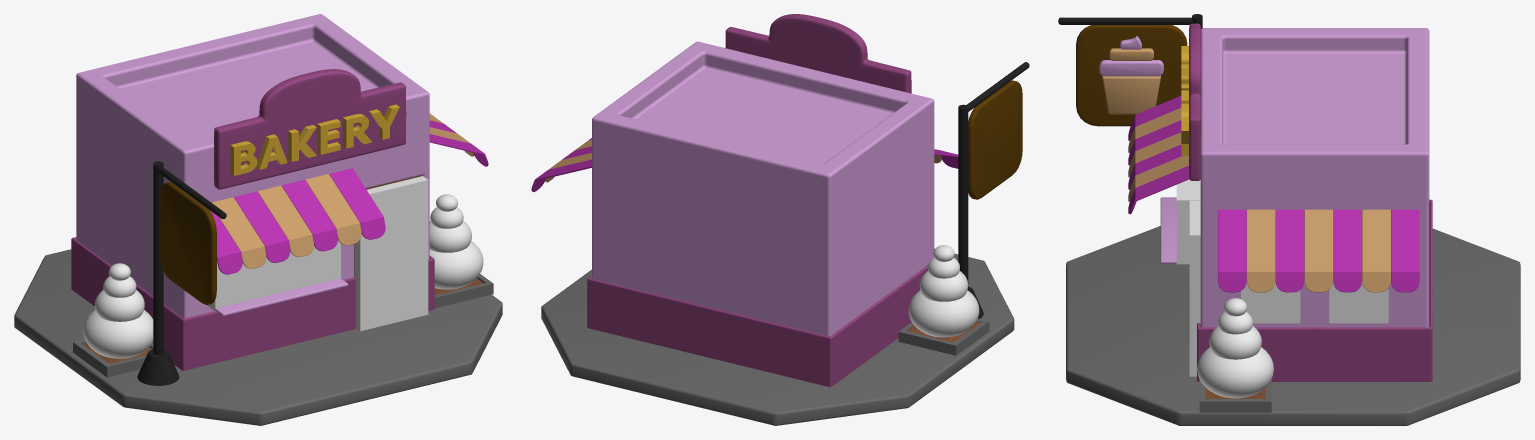
The model's file is bakery.fbx.
3 renders of one model, left to right at view 1: azimuth 30°, elevation 25°; view 2: azimuth 150°, elevation 25°; view 3: azimuth 270°, elevation 25°, orthographic. The views are drawn at different scales.
Parts seen in each view (by area): view 1: Cube.066, Cube.207, Plane.017, Cube.067, Cube.077, Cube.068, Plane.016, Cube.072, Text.002, Cylinder.001, Sphere.002, Sphere.001 (+9 smaller); view 2: Cube.066, Cube.207, Cube.067, Cube.077, Plane.016, Sphere.002, Cylinder.001, Cube.191, Sphere.003, Plane.018, Cylinder.002, Sphere.004; view 3: Cube.066, Cube.207, Plane.018, Cube.067, Plane.016, Plane.017, Cube.074, Plane.019, Sphere.001, Cube.077, Cube.068, Cube.072 (+6 smaller).
Part boxes in pixels (<box>): Cube.066: <box>76,14,429,318</box>; Cube.207: <box>14,249,502,425</box>; Plane.017: <box>210,168,385,274</box>; Cube.067: <box>71,237,434,370</box>; Cube.077: <box>214,69,406,189</box>; Cube.068: <box>354,176,428,331</box>; Plane.016: <box>159,182,216,304</box>; Cube.072: <box>207,240,340,311</box>; Text.002: <box>230,104,399,175</box>; Cylinder.001: <box>137,161,179,385</box>; Sphere.002: <box>83,310,153,358</box>; Sphere.001: <box>429,241,483,289</box>; Cube.066: <box>592,41,934,336</box>; Cube.207: <box>541,248,1014,425</box>; Cube.067: <box>587,265,927,387</box>; Cube.077: <box>725,14,911,93</box>; Plane.016: <box>968,80,1022,199</box>; Sphere.002: <box>908,290,979,337</box>; Cylinder.001: <box>958,104,983,318</box>; Cube.191: <box>898,319,989,355</box>; Sphere.003: <box>919,271,968,301</box>; Plane.018: <box>531,138,591,191</box>; Cylinder.002: <box>966,62,1029,111</box>; Sphere.004: <box>928,257,959,278</box>; Cube.066: <box>1200,28,1429,327</box>; Cube.207: <box>1066,226,1520,425</box>; Plane.018: <box>1218,209,1419,292</box>; Cube.067: <box>1197,199,1432,381</box>; Plane.016: <box>1076,25,1187,126</box>; Plane.017: <box>1128,96,1189,214</box>; Cube.074: <box>1241,282,1388,323</box>; Plane.019: <box>1099,36,1163,114</box>; Sphere.001: <box>1197,347,1273,398</box>; Cube.077: <box>1189,23,1201,180</box>; Cube.068: <box>1189,200,1200,376</box>; Cube.072: <box>1176,179,1200,264</box>.
Size of the model in its own units: 686 by 476 by 677.
